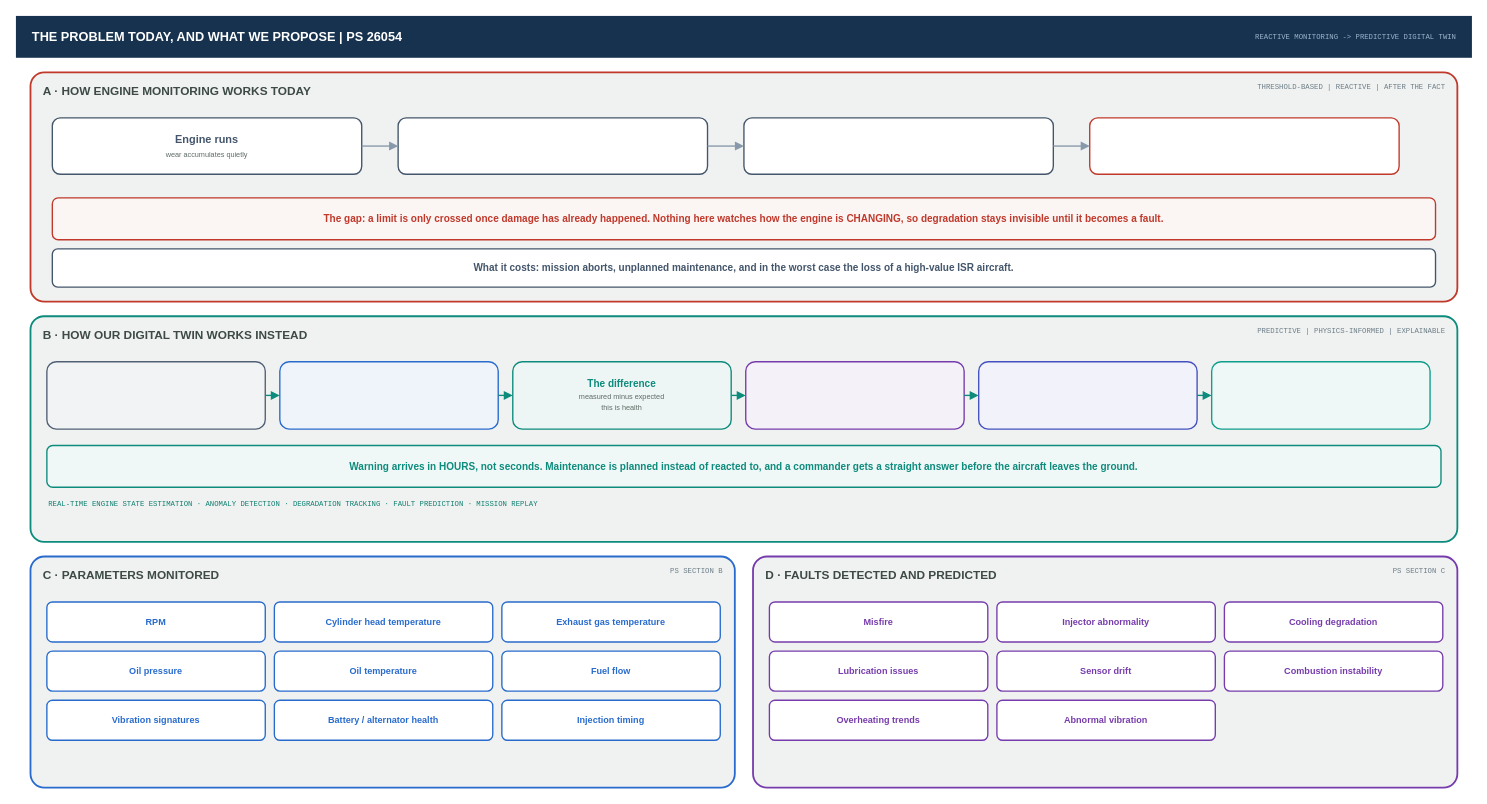
Some shapes in this 1487 by 804 pixel diagram are drawn without their labels. The centre of each missing label's shape, as x and y in pixels:
AI and ML layer anomaly, fault class, remaining life: the point at 854,395
Alarm raised after the damage is done: the point at 1244,146
Compare to a fixed limit is the value over the line?: the point at 898,146
Engine and FADEC CAN bus telemetry: the point at 156,395
Failure probability will it last the next sortie?: the point at 1087,395
Maintenance advisory what to do, and by when: the point at 1320,395
Physics twin what an as-new engine would do now: the point at 388,395
Sensor reads a value RPM, CHT, EGT, oil pressure: the point at 552,146
